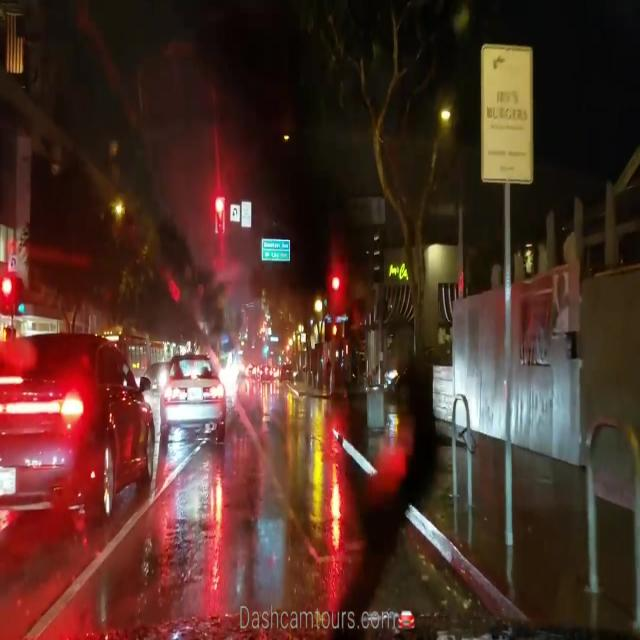Car: (2, 336, 153, 522), (162, 353, 225, 447)
